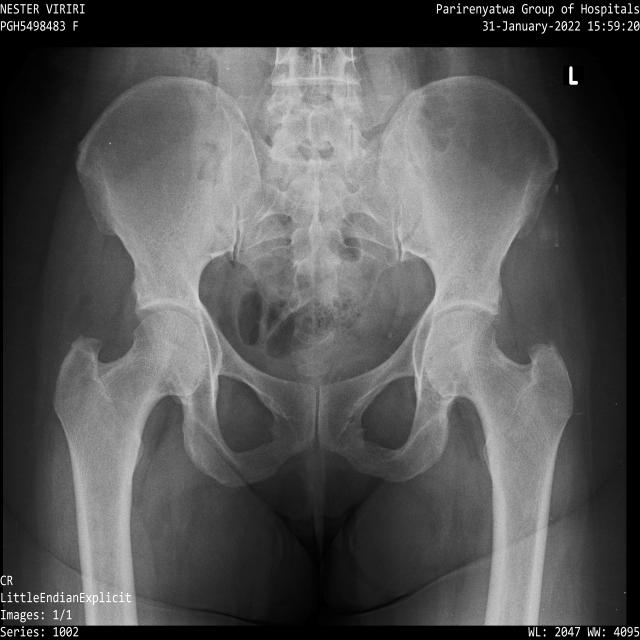normal-left: (425, 310, 573, 626)
normal-right: (53, 310, 207, 588)
